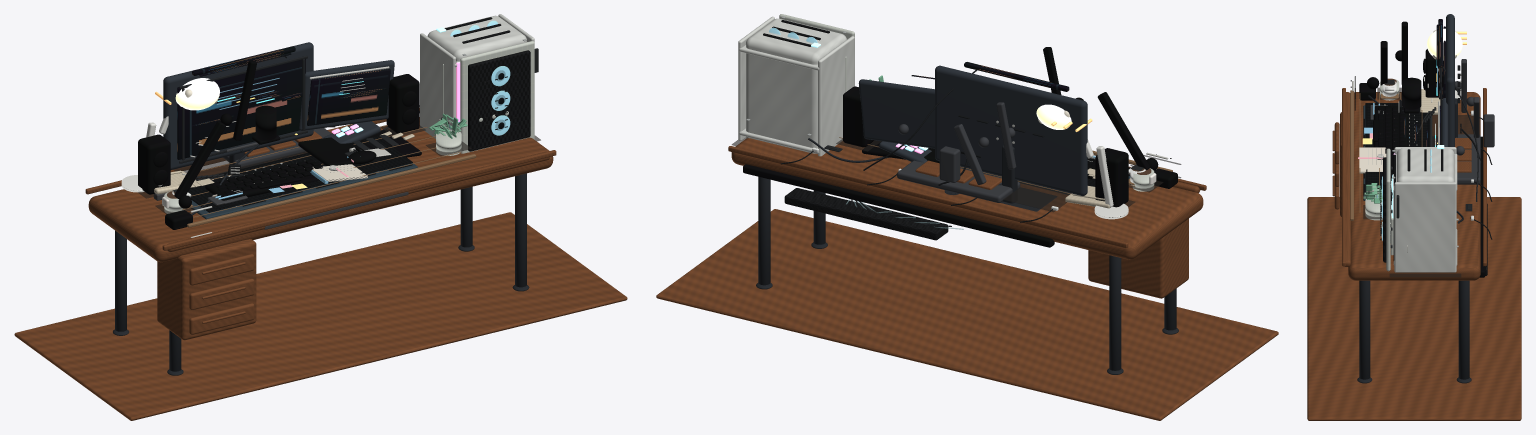
The model's file is p2s_premium_workstation_hero_v8.glb.
The picture shows the model from 3 angles, left to right: view 1: azimuth 30°, elevation 25°; view 2: azimuth 150°, elevation 25°; view 3: azimuth 270°, elevation 25°; orthographic projection. The views are drawn at different scales.
Parts seen in each view (by area): view 1: premium_workstation_v2_preview_floor_shadow_catcher, premium_workstation_oiled_oak_waterfall_top, premium_workstation_main_monitor_inner_screen, premium_workstation_left_lacquer_drawer_carcase, premium_workstation_v3_pc_front_deep_mesh_insert, premium_workstation_side_display_blue_screen, premium_workstation_v2_pc_case_vertical_frame_0.94, premium_workstation_main_monitor_outer_shell, premium_workstation_v2_oak_end_grain_band_0.51, premium_workstation_v3_deskmat_top_charcoal_overlay, premium_workstation_white_pc_case_body, premium_workstation_v3_pc_front_outer_white_frame (+23 smaller); view 2: premium_workstation_v2_preview_floor_shadow_catcher, premium_workstation_oiled_oak_waterfall_top, premium_workstation_main_monitor_outer_shell, premium_workstation_white_pc_case_body, premium_workstation_side_display_shell, premium_workstation_left_lacquer_drawer_carcase, premium_workstation_rear_black_cable_raceway, premium_workstation_v2_pc_case_vertical_frame_0.94, premium_workstation_v2_underdesk_mesh_cable_tray, premium_workstation_v2_oak_end_grain_band_-0.51, premium_workstation_v2_aluminum_monitor_riser_shelf, premium_workstation_tapered_black_steel_leg_-1.32_-0.36 (+12 smaller); view 3: premium_workstation_v2_preview_floor_shadow_catcher, premium_workstation_oiled_oak_waterfall_top, premium_workstation_v2_pc_case_vertical_frame_1.54, premium_workstation_white_pc_case_body, premium_workstation_tapered_black_steel_leg_1.32_-0.36, premium_workstation_tapered_black_steel_leg_1.32_0.36, premium_workstation_v3_deskmat_top_charcoal_overlay, premium_workstation_main_monitor_outer_shell, premium_workstation_oak_front_soft_bullnose, premium_workstation_v2_oak_end_grain_band_0.51, premium_workstation_v2_aluminum_monitor_riser_shelf, premium_workstation_low_profile_keyboard_body (+24 smaller).
Part boxes in pixels (x1,y1,x2,y2): premium_workstation_v2_preview_floor_shadow_catcher: [14, 212, 627, 420]; premium_workstation_oiled_oak_waterfall_top: [88, 117, 553, 262]; premium_workstation_main_monitor_inner_screen: [177, 59, 305, 159]; premium_workstation_left_lacquer_drawer_carcase: [157, 239, 256, 340]; premium_workstation_v3_pc_front_deep_mesh_insert: [468, 50, 530, 151]; premium_workstation_side_display_blue_screen: [307, 69, 390, 125]; premium_workstation_v2_pc_case_vertical_frame_0.94: [420, 33, 456, 138]; premium_workstation_main_monitor_outer_shell: [163, 42, 313, 169]; premium_workstation_v2_oak_end_grain_band_0.51: [162, 150, 556, 250]; premium_workstation_v3_deskmat_top_charcoal_overlay: [188, 136, 412, 212]; premium_workstation_white_pc_case_body: [427, 15, 526, 61]; premium_workstation_v3_pc_front_outer_white_frame: [460, 41, 534, 153]; premium_workstation_v2_preview_floor_shadow_catcher: [656, 209, 1278, 420]; premium_workstation_oiled_oak_waterfall_top: [731, 138, 1203, 259]; premium_workstation_main_monitor_outer_shell: [935, 65, 1087, 195]; premium_workstation_white_pc_case_body: [746, 18, 846, 153]; premium_workstation_side_display_shell: [858, 79, 934, 148]; premium_workstation_left_lacquer_drawer_carcase: [1088, 218, 1188, 298]; premium_workstation_rear_black_cable_raceway: [743, 164, 1054, 247]; premium_workstation_v2_pc_case_vertical_frame_0.94: [818, 36, 854, 156]; premium_workstation_v2_underdesk_mesh_cable_tray: [784, 188, 948, 240]; premium_workstation_v2_oak_end_grain_band_-0.51: [728, 146, 1128, 247]; premium_workstation_v2_aluminum_monitor_riser_shelf: [897, 160, 1020, 202]; premium_workstation_tapered_black_steel_leg_-1.32_-0.36: [1109, 255, 1121, 370]; premium_workstation_v2_preview_floor_shadow_catcher: [1307, 197, 1521, 420]; premium_workstation_oiled_oak_waterfall_top: [1348, 92, 1480, 280]; premium_workstation_v2_pc_case_vertical_frame_1.54: [1394, 182, 1456, 272]; premium_workstation_white_pc_case_body: [1396, 148, 1454, 181]; premium_workstation_tapered_black_steel_leg_1.32_-0.36: [1458, 280, 1469, 379]; premium_workstation_tapered_black_steel_leg_1.32_0.36: [1359, 280, 1370, 379]; premium_workstation_v3_deskmat_top_charcoal_overlay: [1365, 103, 1430, 193]; premium_workstation_main_monitor_outer_shell: [1446, 14, 1454, 146]; premium_workstation_oak_front_soft_bullnose: [1344, 92, 1350, 266]; premium_workstation_v2_oak_end_grain_band_0.51: [1342, 88, 1345, 266]; premium_workstation_v2_aluminum_monitor_riser_shelf: [1457, 134, 1480, 184]; premium_workstation_low_profile_keyboard_body: [1373, 105, 1408, 157].
Bounding box in the file's own units: 3.8 × 2.04 × 1.55.
49 materials, 1 textured.
